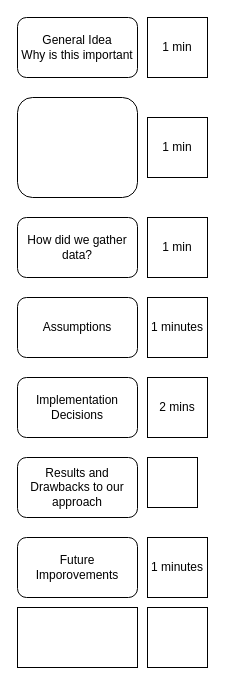
The diagram is 225 pixels wide and 685 high, and some of its shapes have lost their labels. The centre of each missing label's shape, as x and y in pixels:
2 minutes: the point at 172,482
Our Approach How does this translate into a computer? Why did we choose this?: the point at 77,147
Questions: the point at 77,637
